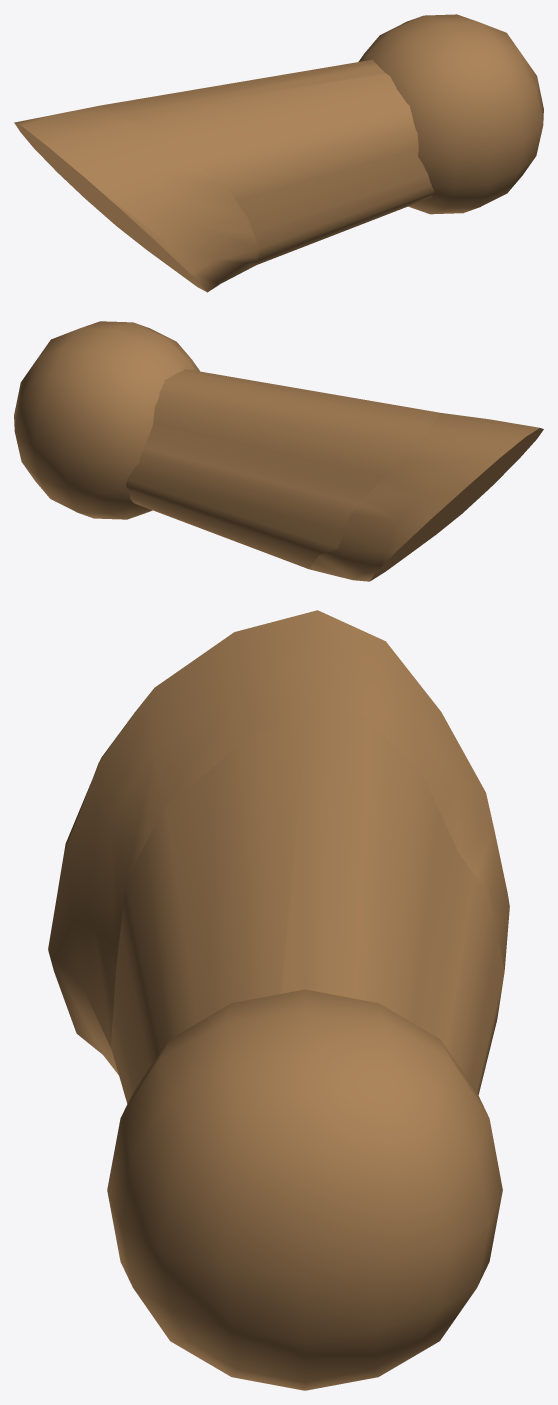
File: Frinchfry_LUpperArm.fbx
3 views of the same model, one above another, from view 1: azimuth 30°, elevation 25°; view 2: azimuth 150°, elevation 25°; view 3: azimuth 270°, elevation 25° (orthographic). The views are drawn at different scales.
Parts seen in each view (by area): view 1: LArmUpper; view 2: LArmUpper; view 3: LArmUpper.
Part boxes in pixels (x1,y1,x2,y2): LArmUpper: (14, 14, 543, 292); LArmUpper: (14, 321, 543, 581); LArmUpper: (48, 610, 509, 1390).
Size of the model in its own units: 72.65 by 24.85 by 28.99.
